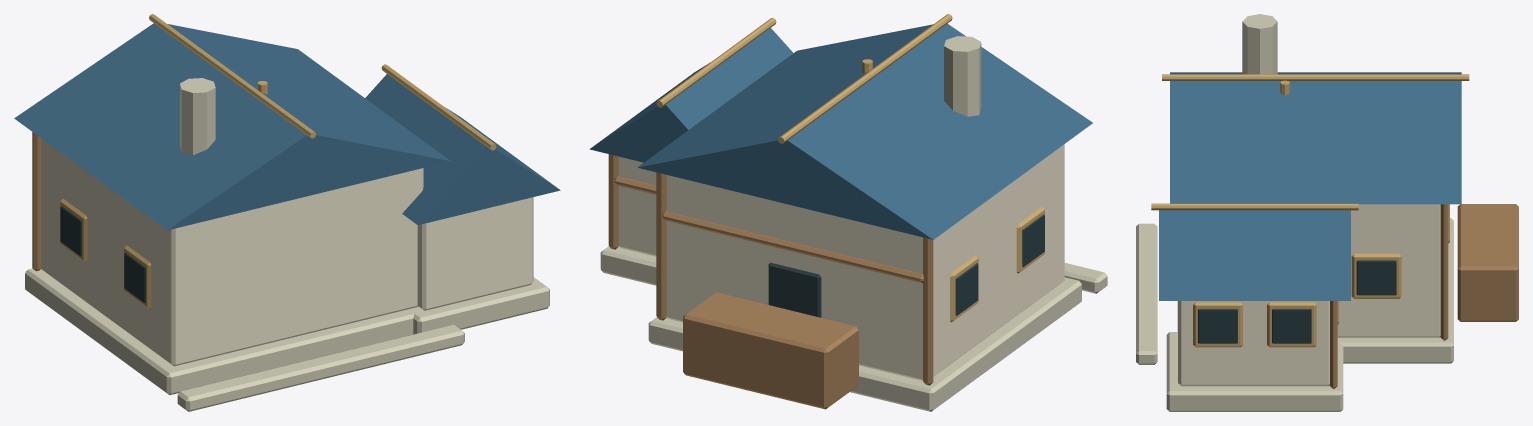
The model's file is level_09.glb.
3 views of the same model, side by side, from view 1: azimuth 30°, elevation 25°; view 2: azimuth 150°, elevation 25°; view 3: azimuth 270°, elevation 25° (orthographic). The views are drawn at different scales.
Visible parts, largest first — view 1: workshop — level 09; view 2: workshop — level 09; view 3: workshop — level 09.
Part boxes in pixels (<box>): workshop — level 09: <box>14,14,560,411</box>; workshop — level 09: <box>589,14,1107,411</box>; workshop — level 09: <box>1136,14,1518,411</box>.
Bounding box in the file's own units: 5.56 × 3.59 × 4.98.
